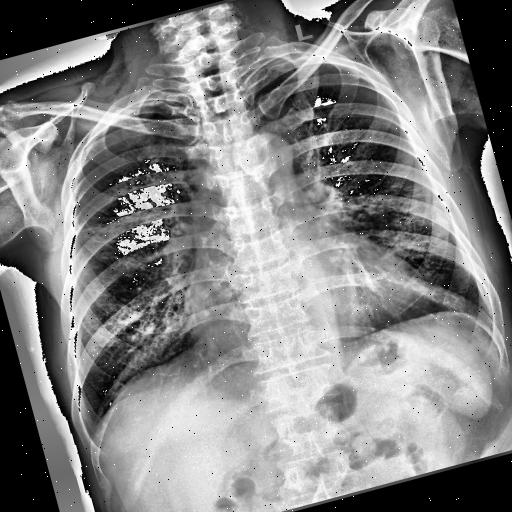13- Pulmonary fibrosis: (108, 290, 190, 366), (69, 208, 146, 256), (77, 214, 129, 250)
3- Cardiomegaly: (178, 226, 430, 372)
5- ILD: (327, 173, 473, 325), (89, 262, 207, 383)
6- Infiltration: (56, 194, 196, 373), (338, 176, 464, 300)
7- Lung Opacity: (56, 194, 196, 373), (338, 176, 464, 300)
9- Other lesion: (376, 172, 450, 258), (108, 290, 190, 366)
